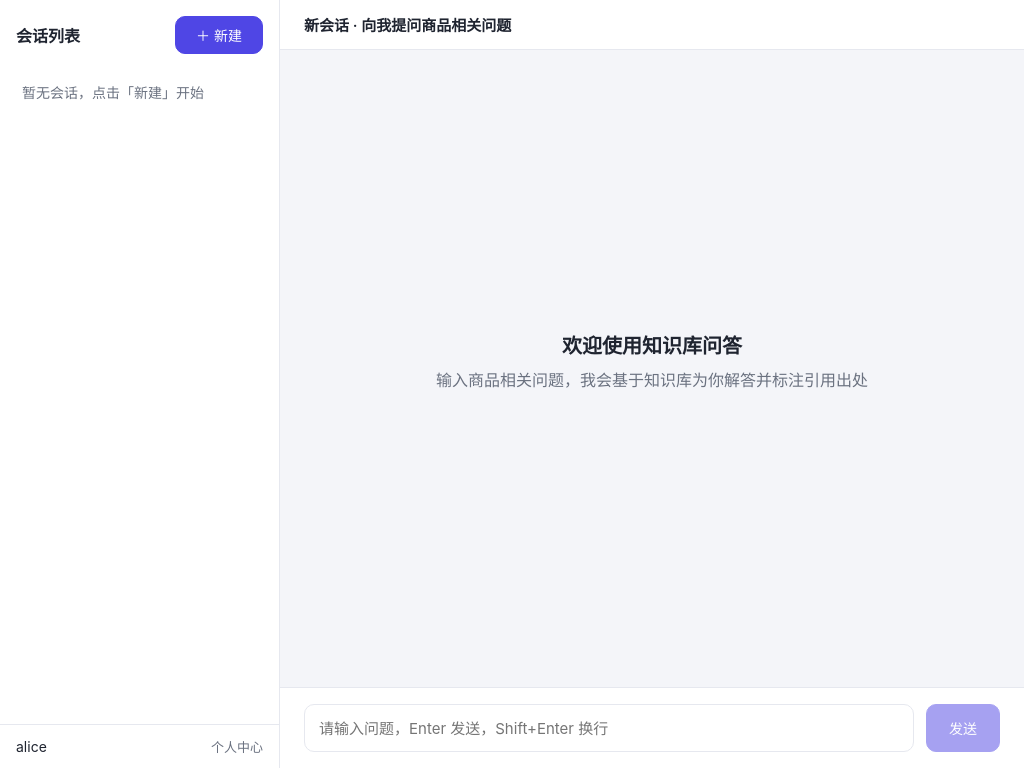
Scenario: ChatPage 流式问答 › 服务端返回 error 事件时用 toast 提示
The image size is (1024, 768).
Expected: the heading "欢迎使用知识库问答" is shown, [562,330,742,359]
Type "会失败的问题" into the text box at [609, 728], box [304,704,914,752]
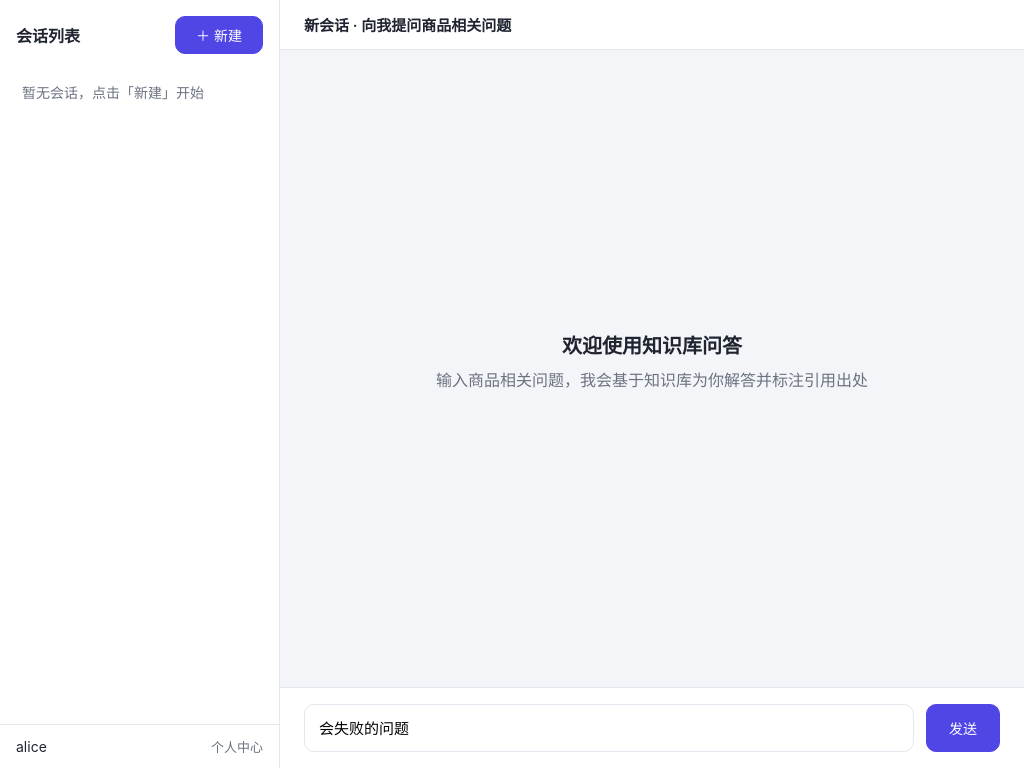
Click the button "发送" at [963, 728], box [926,704,1000,752]
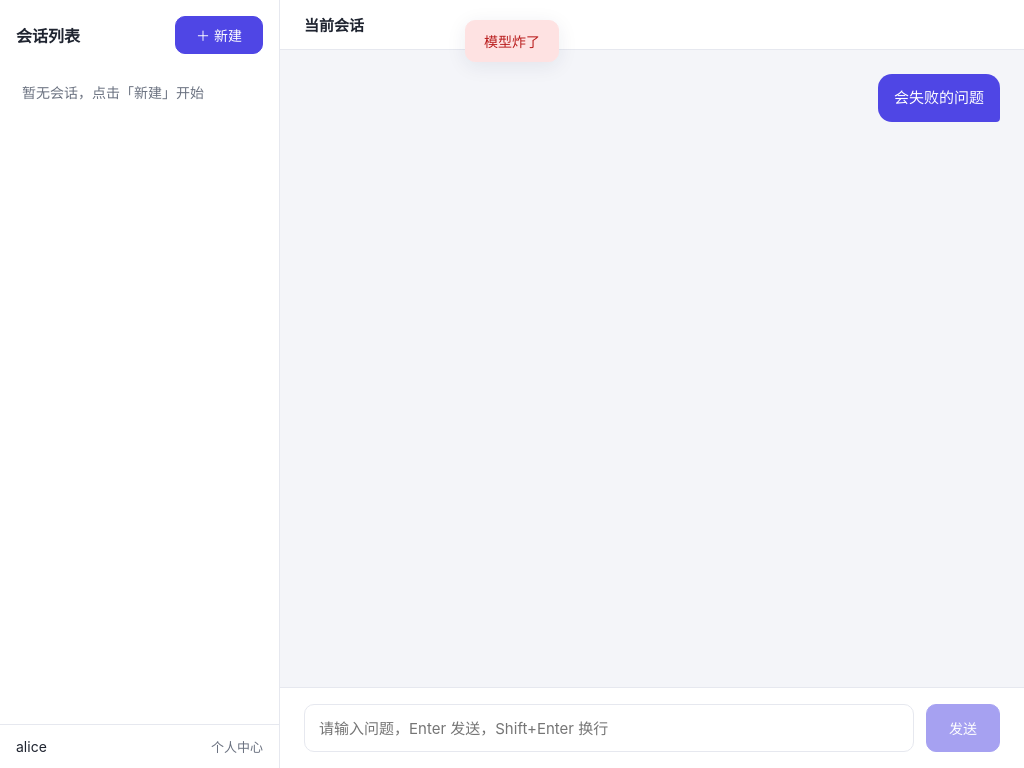
Expected: the text "模型炸了" is shown, [465,20,559,62]
